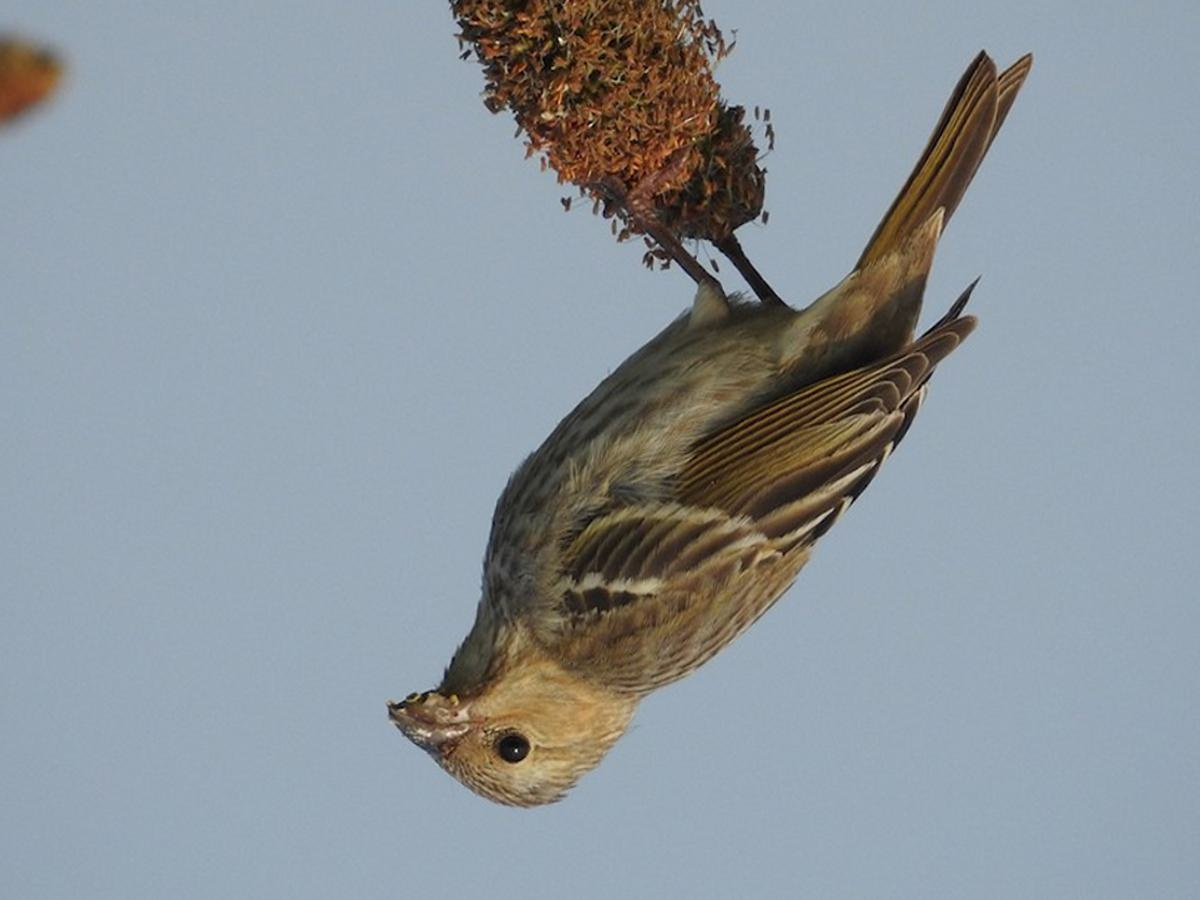rosefinch: (383, 96, 974, 813)
